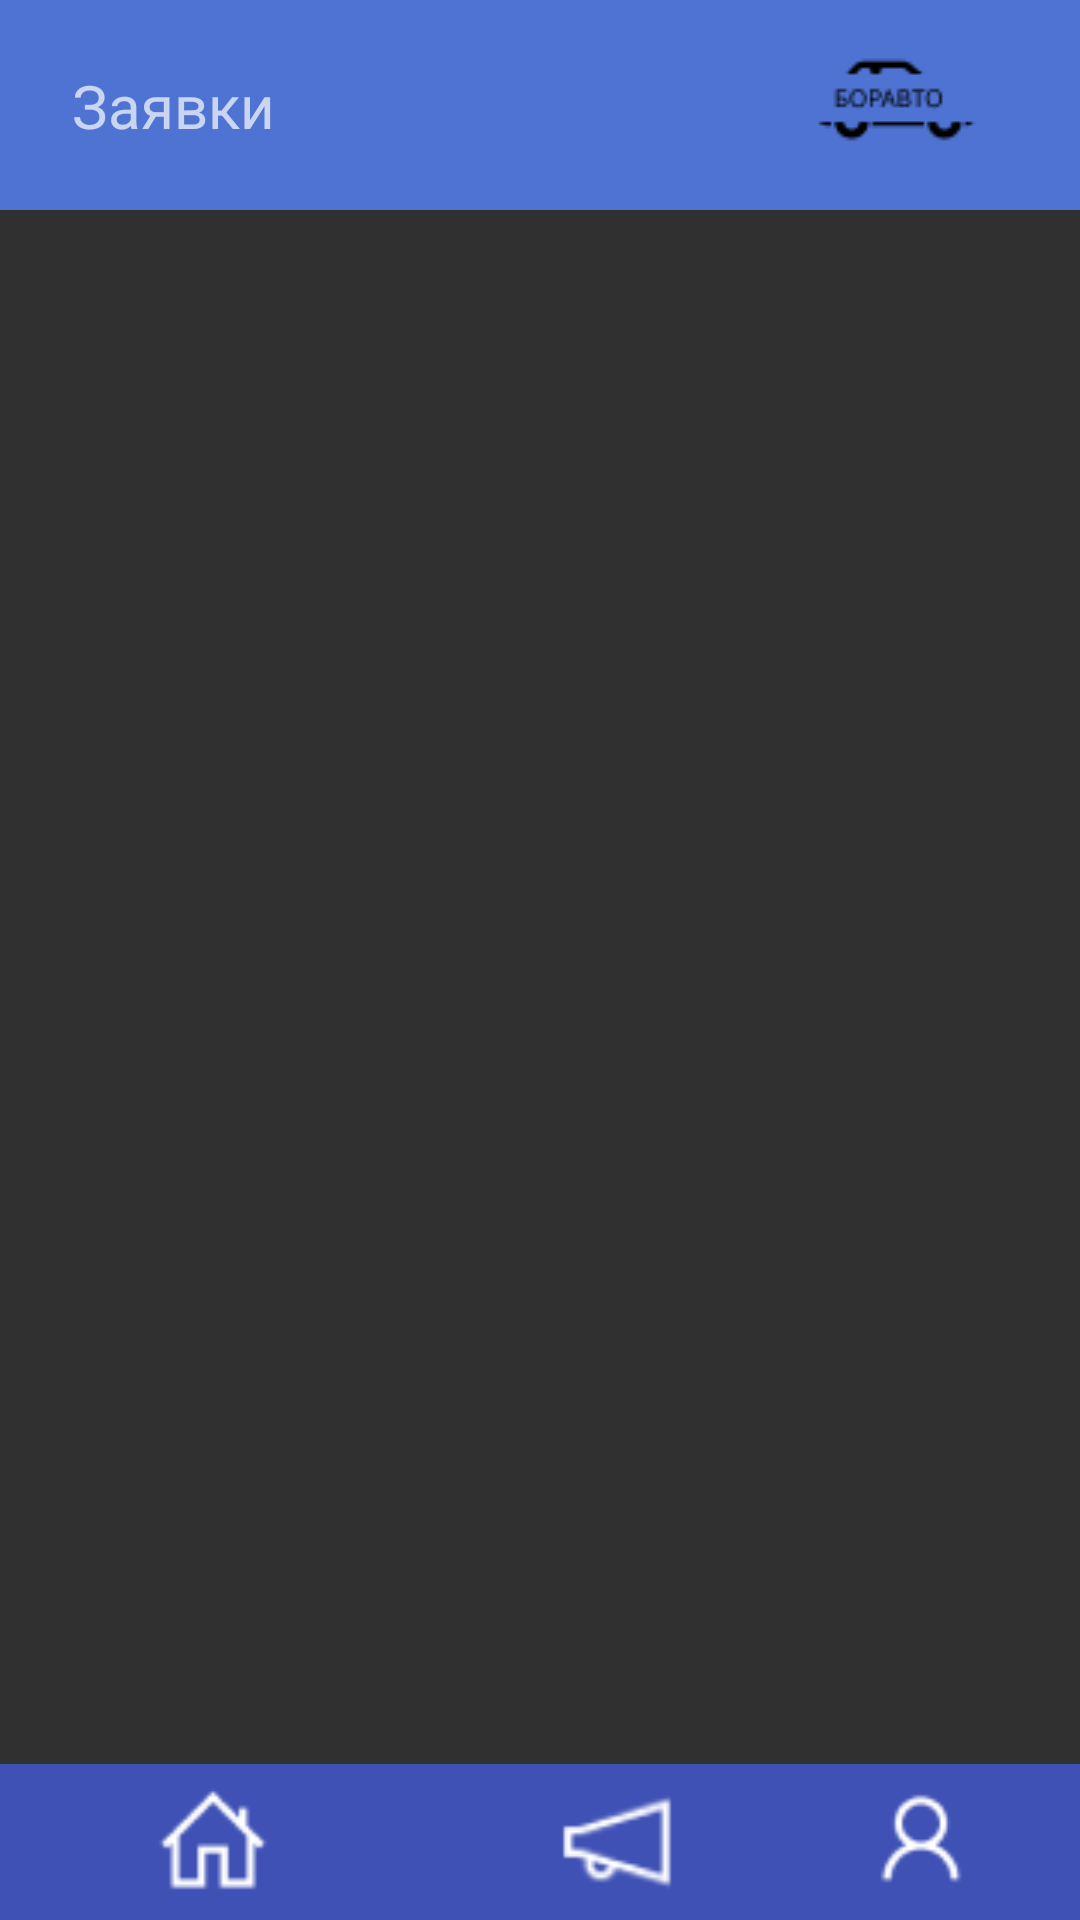

Icon bounding boxes for this 1080x1920 phone screenshot, format [left=x1, top=y1, right=x2, bottom=y2]:
contacts: [left=881, top=1795, right=961, bottom=1882]
home: [left=160, top=1791, right=266, bottom=1889]
news: [left=563, top=1798, right=671, bottom=1886]
